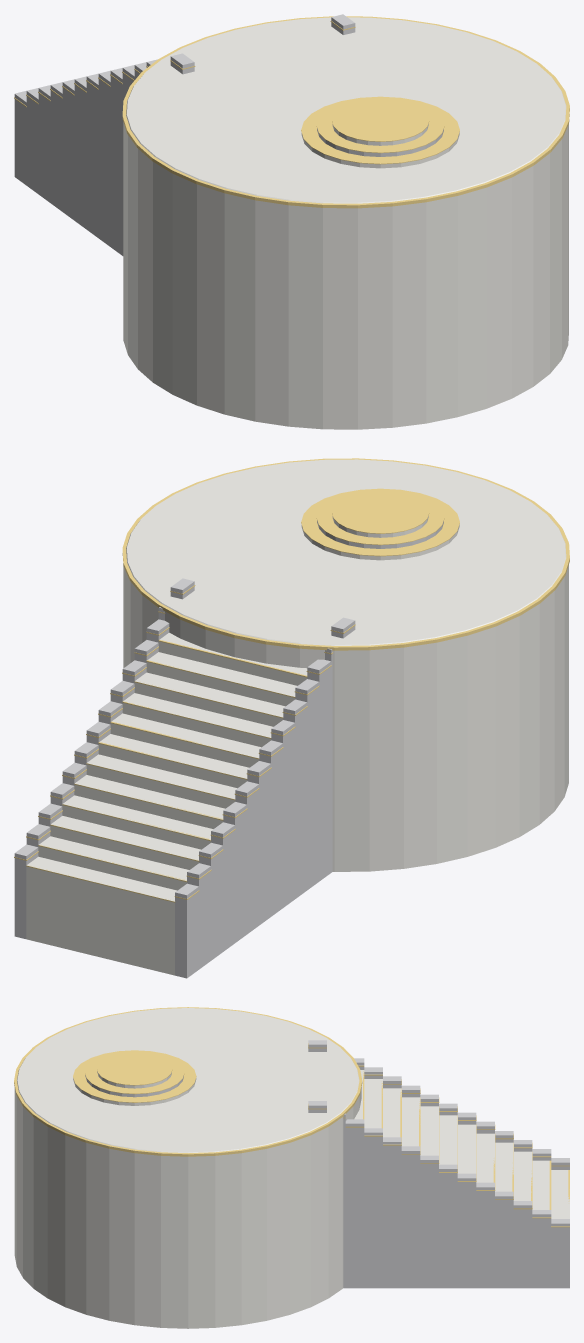
File: HeavenStairs.obj
3 views of the same model, one above another, from view 1: azimuth 30°, elevation 25°; view 2: azimuth 150°, elevation 25°; view 3: azimuth 270°, elevation 25° (orthographic). The views are drawn at different scales.
Parts seen in each view (by area): view 1: HeavenStairs; view 2: HeavenStairs; view 3: HeavenStairs.
Part boxes in pixels (x1,y1,x2,y2): HeavenStairs: (14,14,569,429); HeavenStairs: (14,458,569,978); HeavenStairs: (14,1007,569,1328).
Bounding box in the file's own units: 26.1 × 15.41 × 41.66.
Materials: 1 (1 with a texture image).
